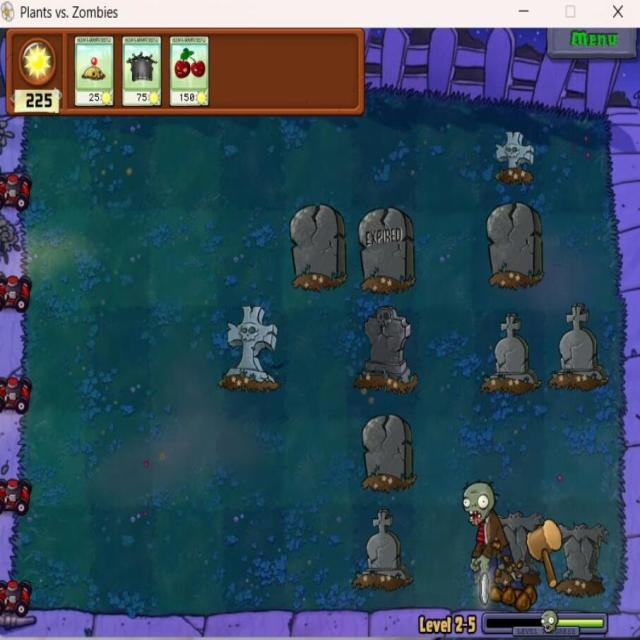coins: (472, 573, 498, 611)
zombies: (461, 480, 517, 575)
